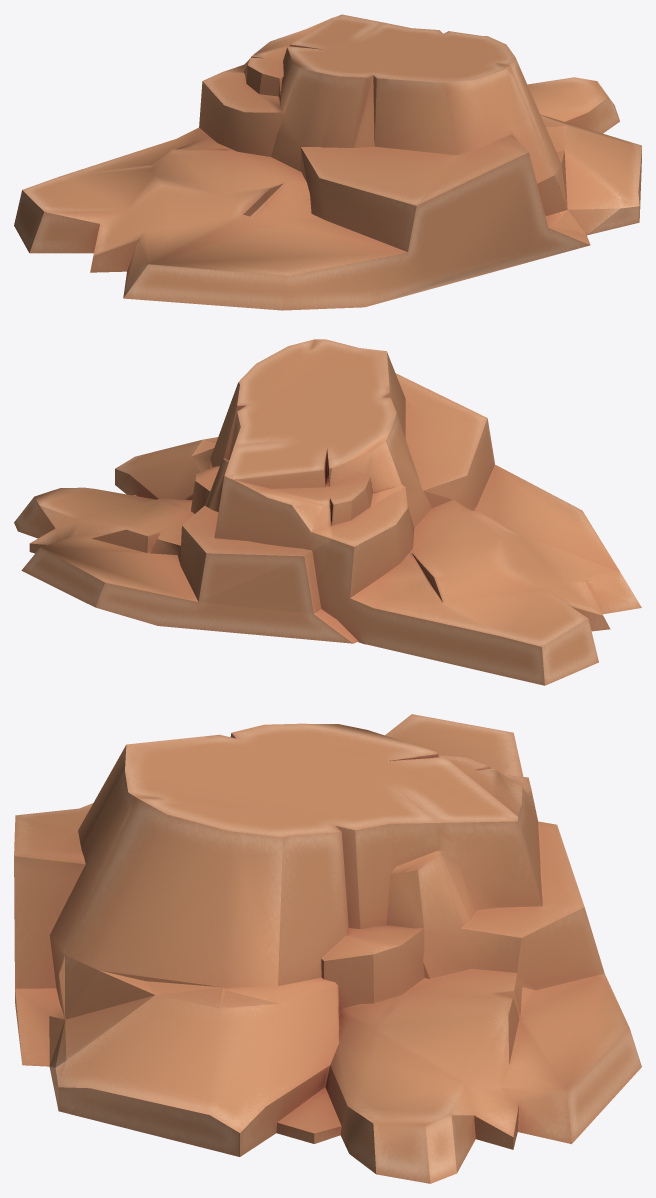
The model's file is desert_rock_07.glb.
The picture shows the model from 3 angles, top to bottom: view 1: azimuth 30°, elevation 25°; view 2: azimuth 150°, elevation 25°; view 3: azimuth 270°, elevation 25°; orthographic projection. The views are drawn at different scales.
Parts seen in each view (by area): view 1: Rock_7_Rock_7_0; view 2: Rock_7_Rock_7_0; view 3: Rock_7_Rock_7_0.
Part boxes in pixels (<box>): Rock_7_Rock_7_0: <box>14,14,641,310</box>; Rock_7_Rock_7_0: <box>14,339,641,685</box>; Rock_7_Rock_7_0: <box>14,714,641,1183</box>.
Bounding box in the file's own units: 8.75 × 2.4 × 5.5.
1 material, 1 textured.
